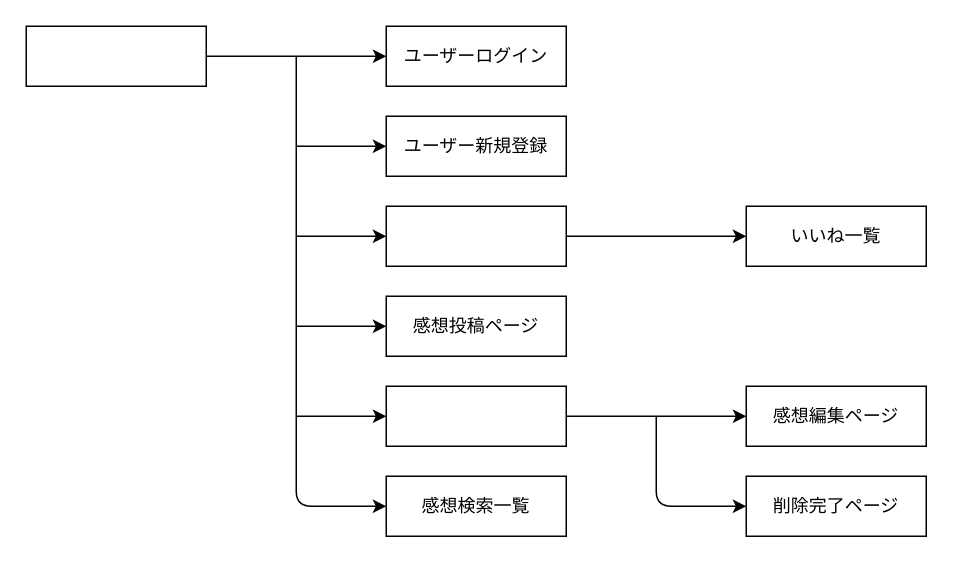
This 953x563 diagram has some shape labels left out. The box of each missing label's shape, as (x1, y1, x2, y2) in pixels:
ユーザーマイページ: (385, 205, 566, 266)
感想一覧: (25, 25, 206, 86)
感想詳細ページ: (385, 385, 566, 446)
